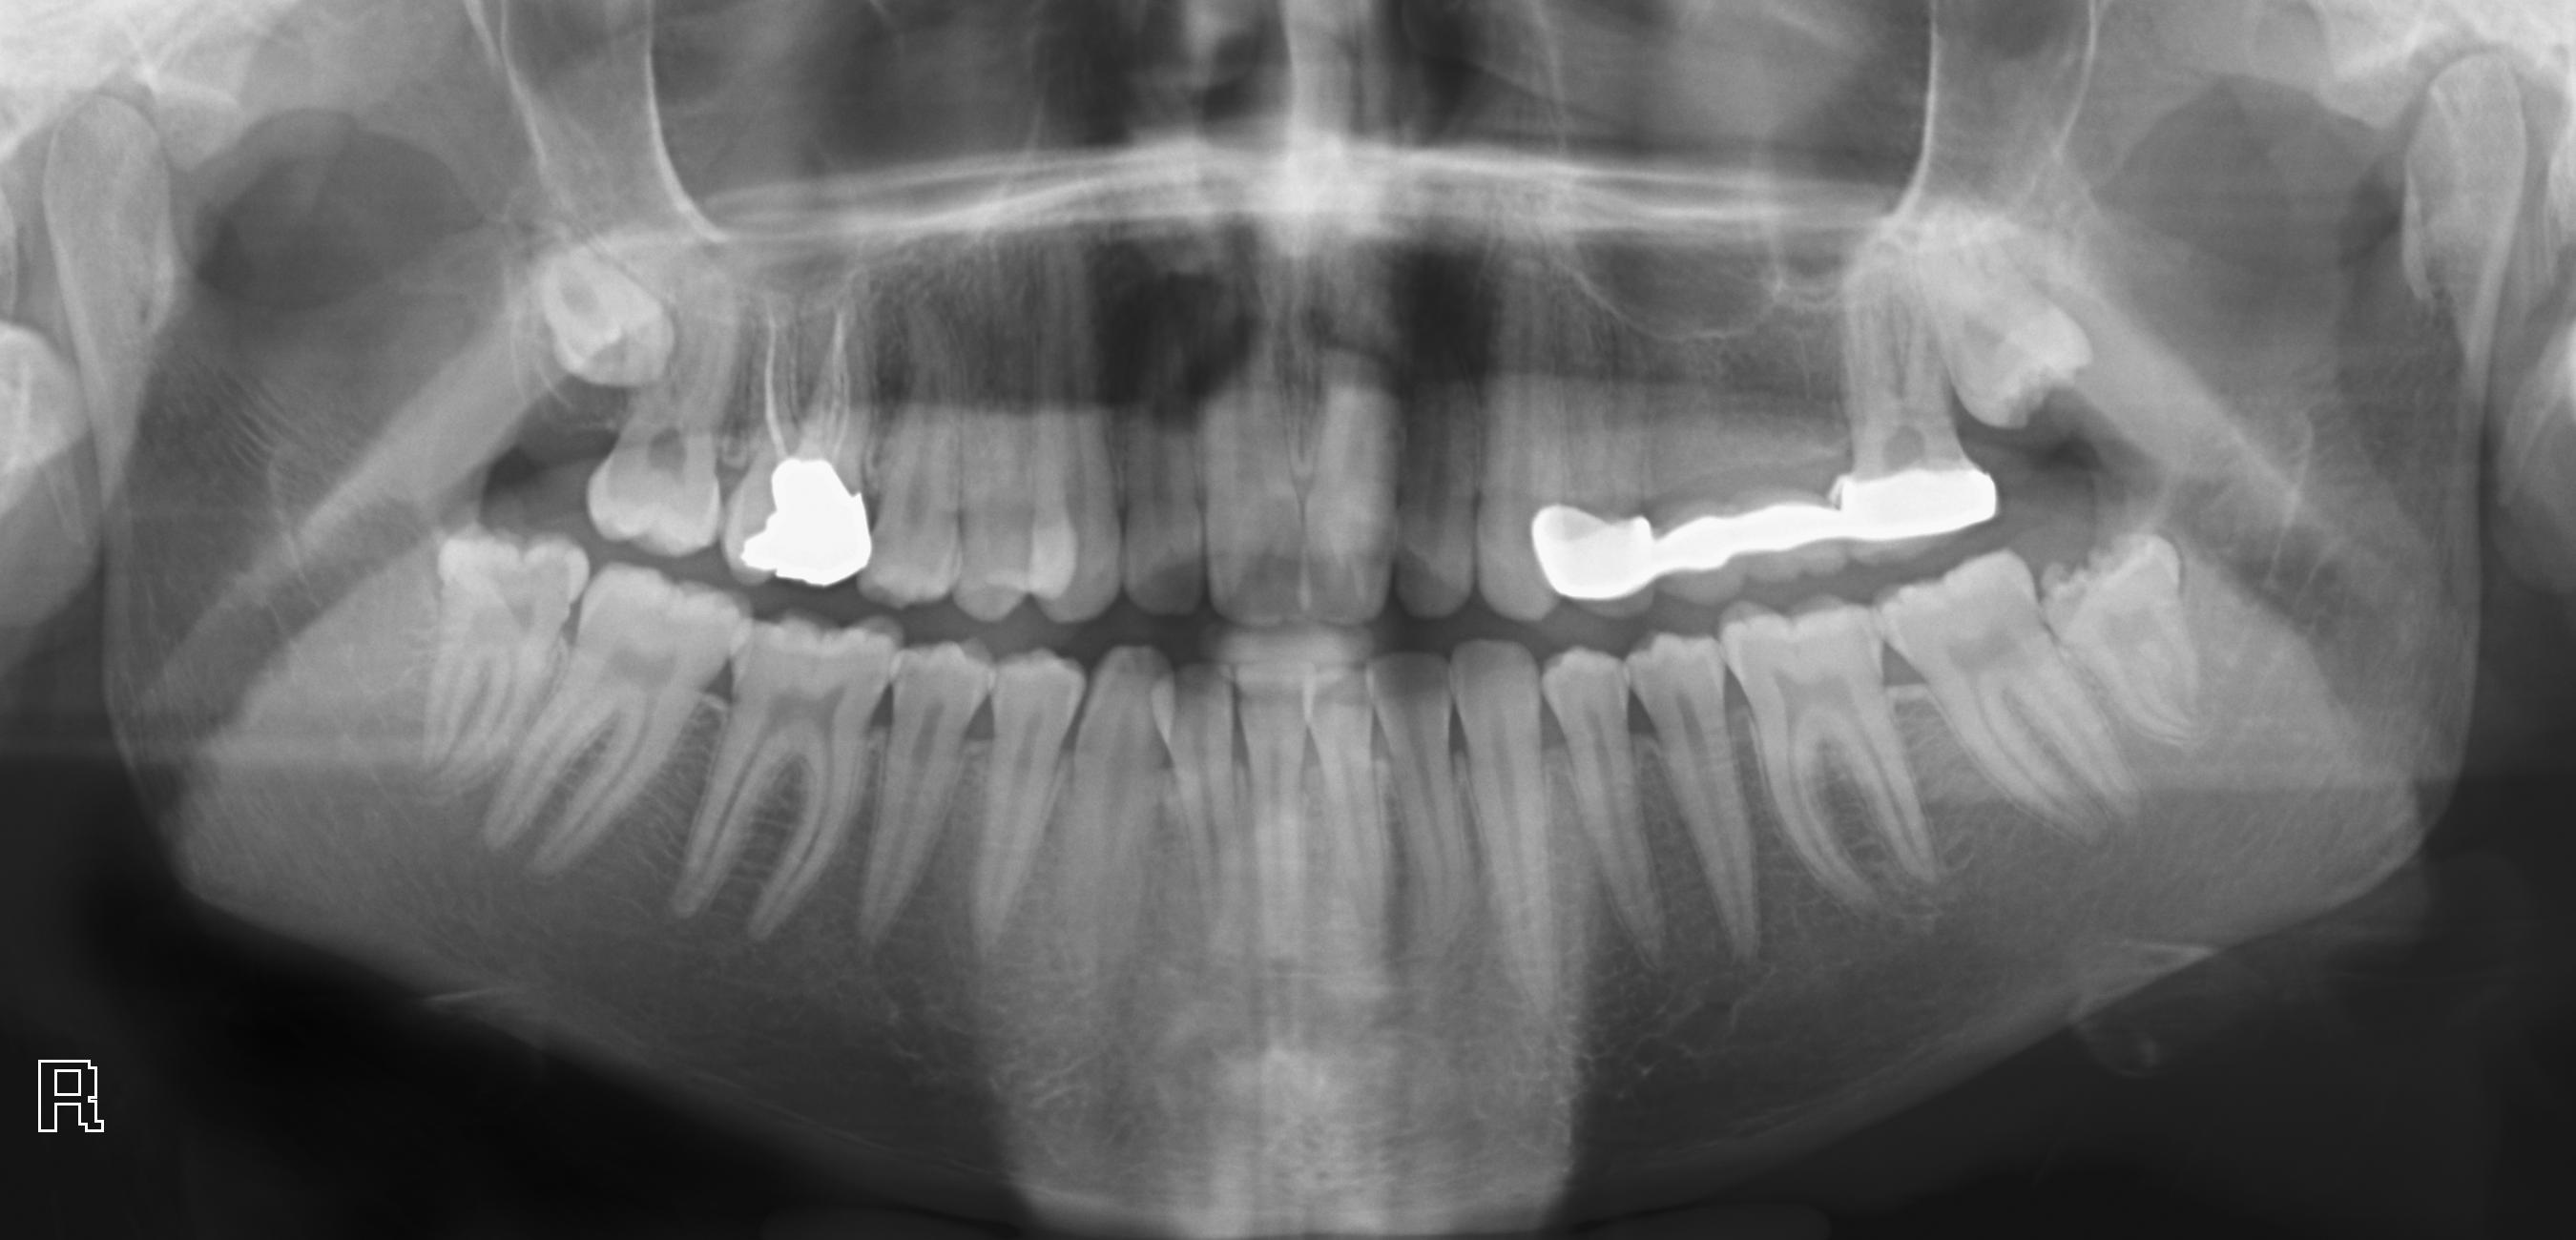Çürük: (738, 453, 882, 586), (1523, 496, 1672, 595), (1840, 460, 2014, 540)
